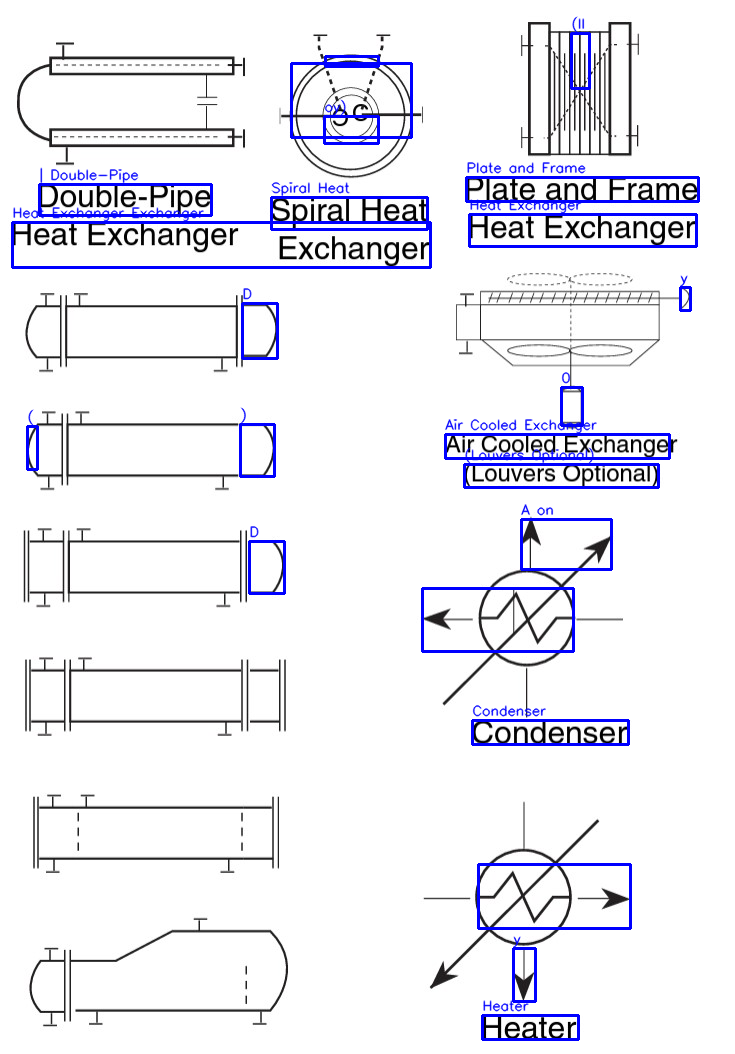TrocadordeCalor: (415, 794, 635, 1005), (414, 513, 630, 725), (448, 264, 699, 433), (13, 33, 253, 171), (24, 912, 293, 1030), (273, 28, 429, 183), (24, 401, 278, 494), (19, 652, 293, 738), (21, 288, 284, 377), (24, 791, 286, 878), (20, 526, 287, 610), (514, 15, 645, 161)
